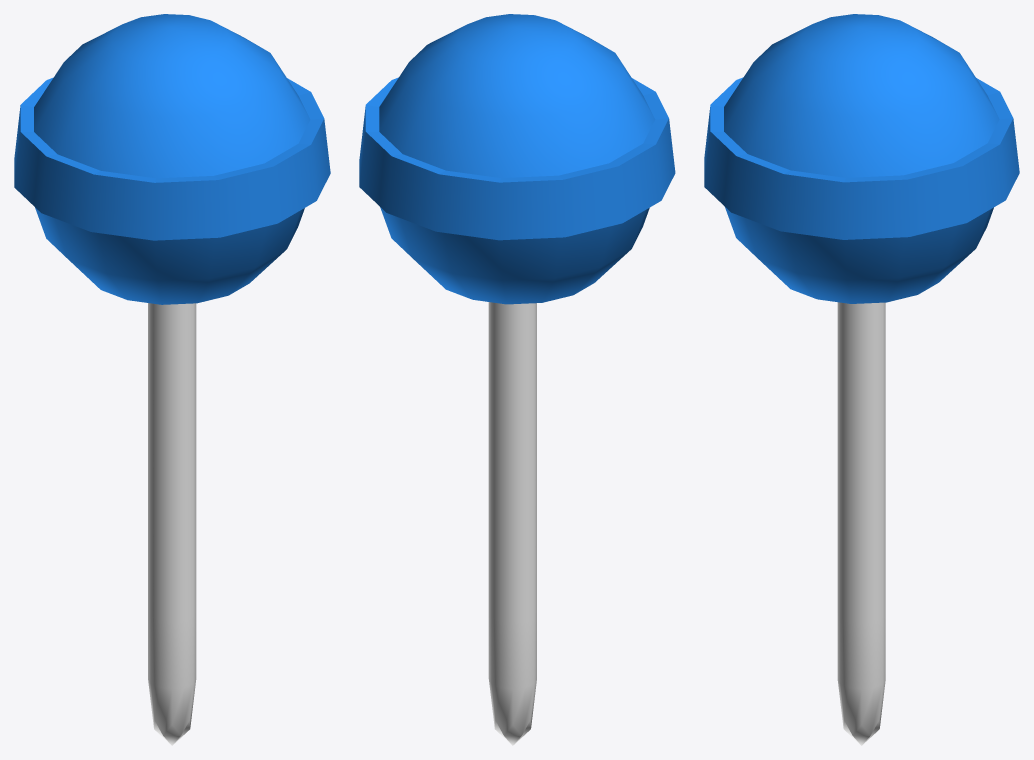
The model's file is Runder_Lolly.fbx.
The picture shows the model from 3 angles, left to right: view 1: azimuth 30°, elevation 25°; view 2: azimuth 150°, elevation 25°; view 3: azimuth 270°, elevation 25°; orthographic projection.
Parts seen in each view (by area): view 1: Sphere001, Cylinder001; view 2: Sphere001, Cylinder001; view 3: Sphere001, Cylinder001.
Part boxes in pixels (left/top/right/bottom): Sphere001: left=14, top=14, right=330, bottom=304; Cylinder001: left=148, top=303, right=196, bottom=745; Sphere001: left=359, top=14, right=675, bottom=304; Cylinder001: left=488, top=302, right=536, bottom=745; Sphere001: left=704, top=14, right=1019, bottom=303; Cylinder001: left=837, top=302, right=885, bottom=745.
Bounding box in the file's own units: 132 × 330 × 132.
